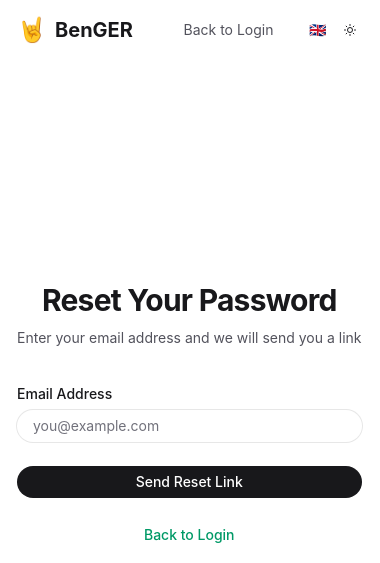
it: Reset Password Page › Success State › shows success message after submission
The width and height of the screenshot is (380, 563).
Type "test@example.com" into the field labelled "Email Address". click: (189, 426)
box: [17,410,362,442]
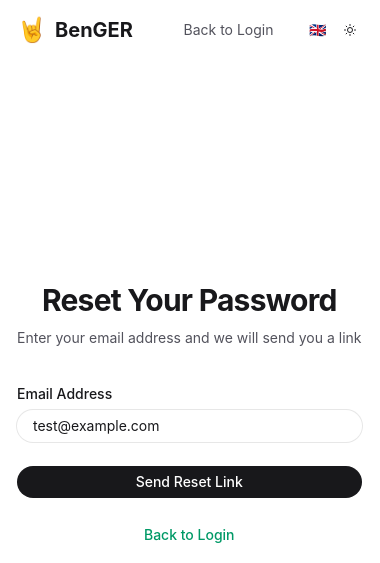
Submit the form "Email Address Send Reset Link Back to Login", box [17,382,362,546]
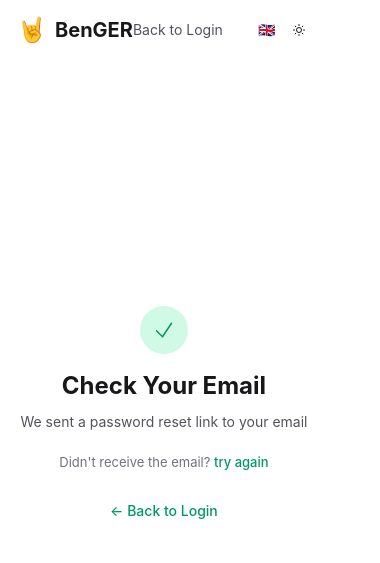
Expected: the heading "Check Your Email" is shown, [62,370,266,400]
